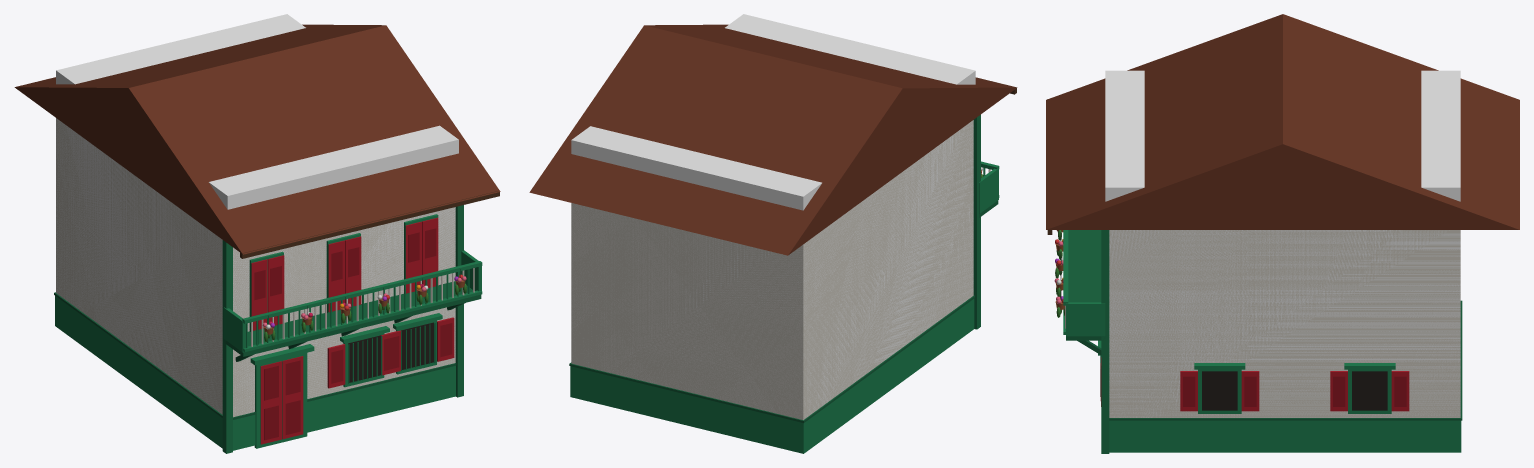
File: casa_cafetera_verde.glb
3 views of the same model, side by side, from view 1: azimuth 30°, elevation 25°; view 2: azimuth 150°, elevation 25°; view 3: azimuth 270°, elevation 25° (orthographic). The views are drawn at different scales.
Visible parts, largest first — view 1: casa_cafetera_verde_Malla, COL_0; view 2: casa_cafetera_verde_Malla, COL_0; view 3: casa_cafetera_verde_Malla, COL_0.
Part boxes in pixels (x1,y1,x2,y2): casa_cafetera_verde_Malla: (14,24,500,453); COL_0: (56,14,458,416); casa_cafetera_verde_Malla: (529,24,1017,453); COL_0: (571,14,975,419); casa_cafetera_verde_Malla: (1046,14,1519,453); COL_0: (1105,70,1460,417).
Size of the model in its own units: 7.8 by 8.88 by 12.
